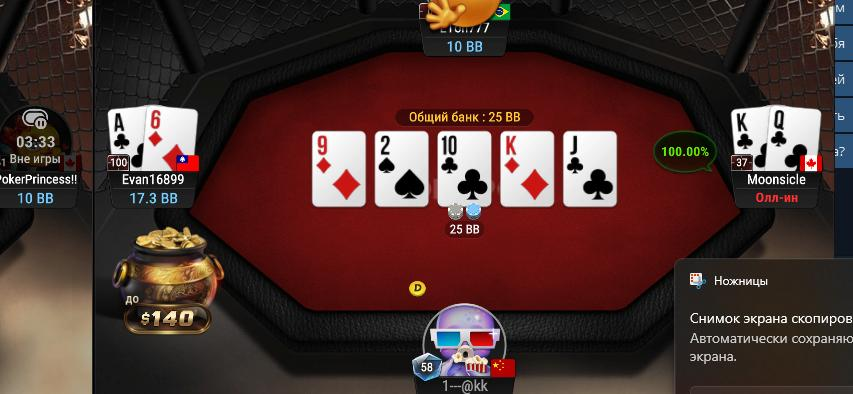10c: (439, 132, 491, 205)
2s: (374, 130, 430, 208)
6d: (143, 103, 198, 169)
9d: (313, 131, 366, 206)
Ac: (108, 108, 145, 172)
Jc: (564, 131, 617, 206)
Kc: (731, 106, 768, 170)
Kd: (501, 131, 555, 206)
Qc: (768, 104, 819, 171)
